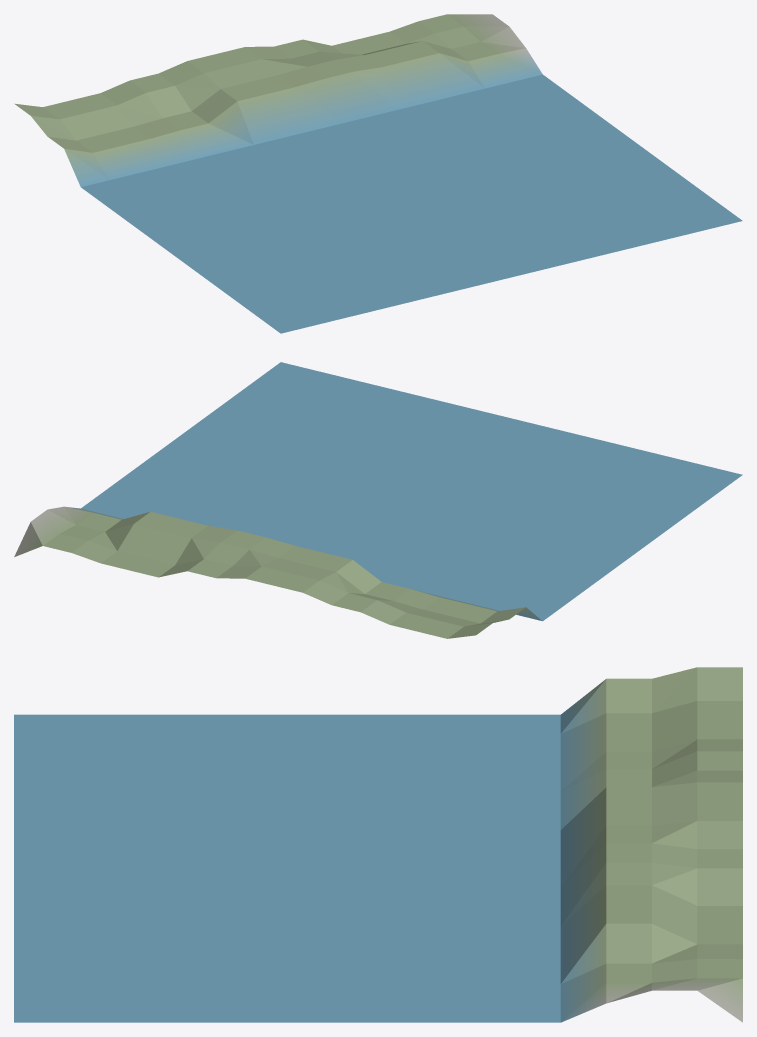
The picture shows the model from 3 angles, top to bottom: view 1: azimuth 30°, elevation 25°; view 2: azimuth 150°, elevation 25°; view 3: azimuth 270°, elevation 25°; orthographic projection. The views are drawn at different scales.
Bounding box in the file's own units: 32 × 2.32 × 32.
